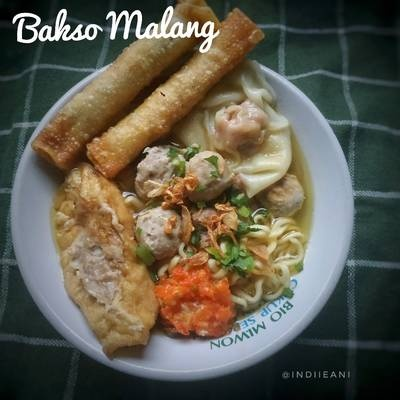bakso_malang: (32, 1, 317, 360)
